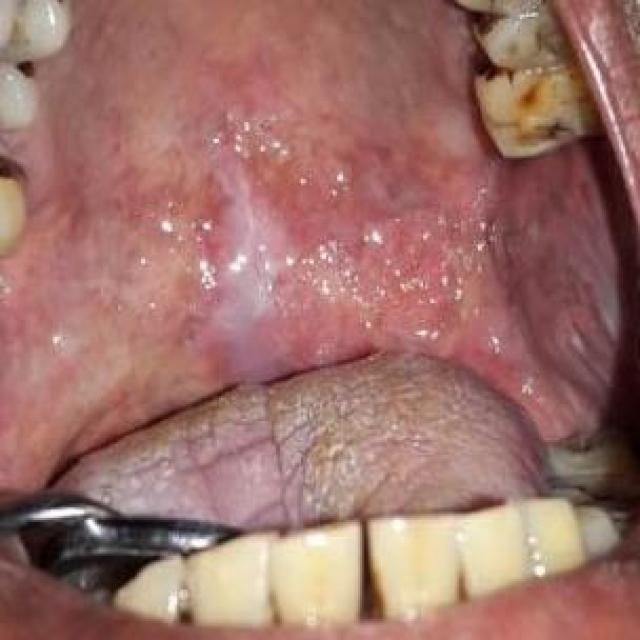leukoplakia-detection: (185, 63, 465, 385)
processing_area: (0, 0, 618, 528)
